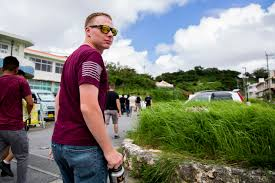T-Shirt_Regular: (47, 39, 120, 156)
